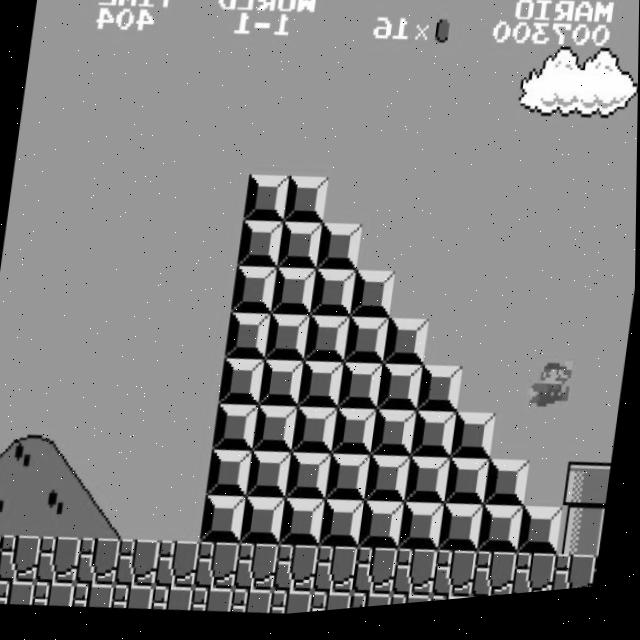11- little_mario: (527, 364, 577, 420)
14- pipe: (557, 515, 604, 569), (598, 519, 606, 566)
15- pipe_head: (563, 469, 610, 524), (604, 474, 612, 520)
17- undestructible_block: (313, 548, 360, 603), (432, 555, 479, 609), (353, 551, 400, 605), (194, 542, 241, 596), (155, 540, 202, 594), (115, 538, 162, 592), (393, 552, 439, 607), (274, 546, 320, 600), (234, 544, 280, 598), (76, 536, 122, 590), (36, 534, 82, 588), (472, 556, 518, 607), (0, 532, 43, 586), (512, 558, 558, 604), (552, 561, 598, 601), (112, 584, 156, 615), (231, 590, 274, 621), (192, 588, 235, 619), (152, 585, 195, 616), (73, 581, 116, 612), (33, 579, 76, 610), (271, 592, 314, 621), (0, 577, 37, 608), (311, 594, 354, 618), (350, 596, 393, 615), (390, 598, 433, 612), (430, 600, 473, 609), (592, 566, 600, 598)
9- hard_block: (319, 502, 366, 557), (310, 271, 357, 326), (237, 221, 284, 276), (231, 267, 278, 322), (206, 450, 253, 505), (517, 513, 564, 567), (484, 465, 531, 519), (478, 511, 525, 565), (417, 369, 464, 423), (377, 367, 424, 421), (371, 413, 418, 467), (365, 459, 412, 513), (359, 504, 406, 558), (316, 226, 363, 280), (283, 178, 330, 232), (264, 315, 311, 369), (258, 361, 305, 415), (246, 453, 293, 507), (240, 498, 287, 552), (219, 359, 266, 413), (200, 496, 247, 550), (399, 506, 445, 561), (338, 365, 384, 420), (411, 415, 458, 468), (383, 322, 430, 375), (304, 318, 351, 371), (252, 407, 299, 460), (243, 176, 290, 229), (225, 313, 272, 366), (213, 405, 260, 458), (451, 417, 497, 471), (445, 463, 491, 517), (439, 509, 485, 563), (405, 461, 451, 515), (350, 274, 396, 328), (344, 319, 390, 373), (326, 457, 372, 511), (298, 363, 344, 417), (286, 455, 332, 509), (280, 500, 326, 554), (277, 224, 323, 278), (271, 270, 317, 324), (332, 411, 378, 464), (292, 409, 338, 462)
